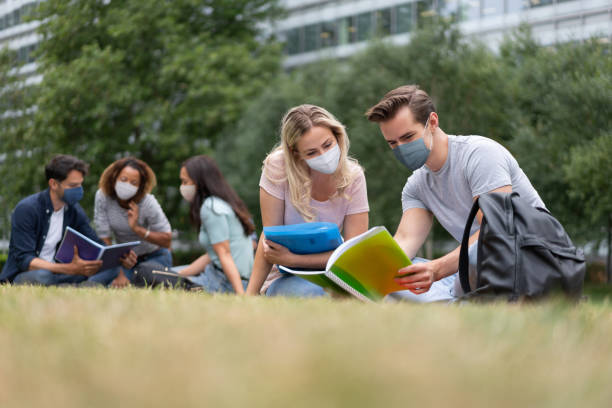with mask: (290, 115, 342, 177), (378, 103, 430, 165), (38, 155, 88, 209), (110, 157, 145, 205), (174, 153, 201, 205)
